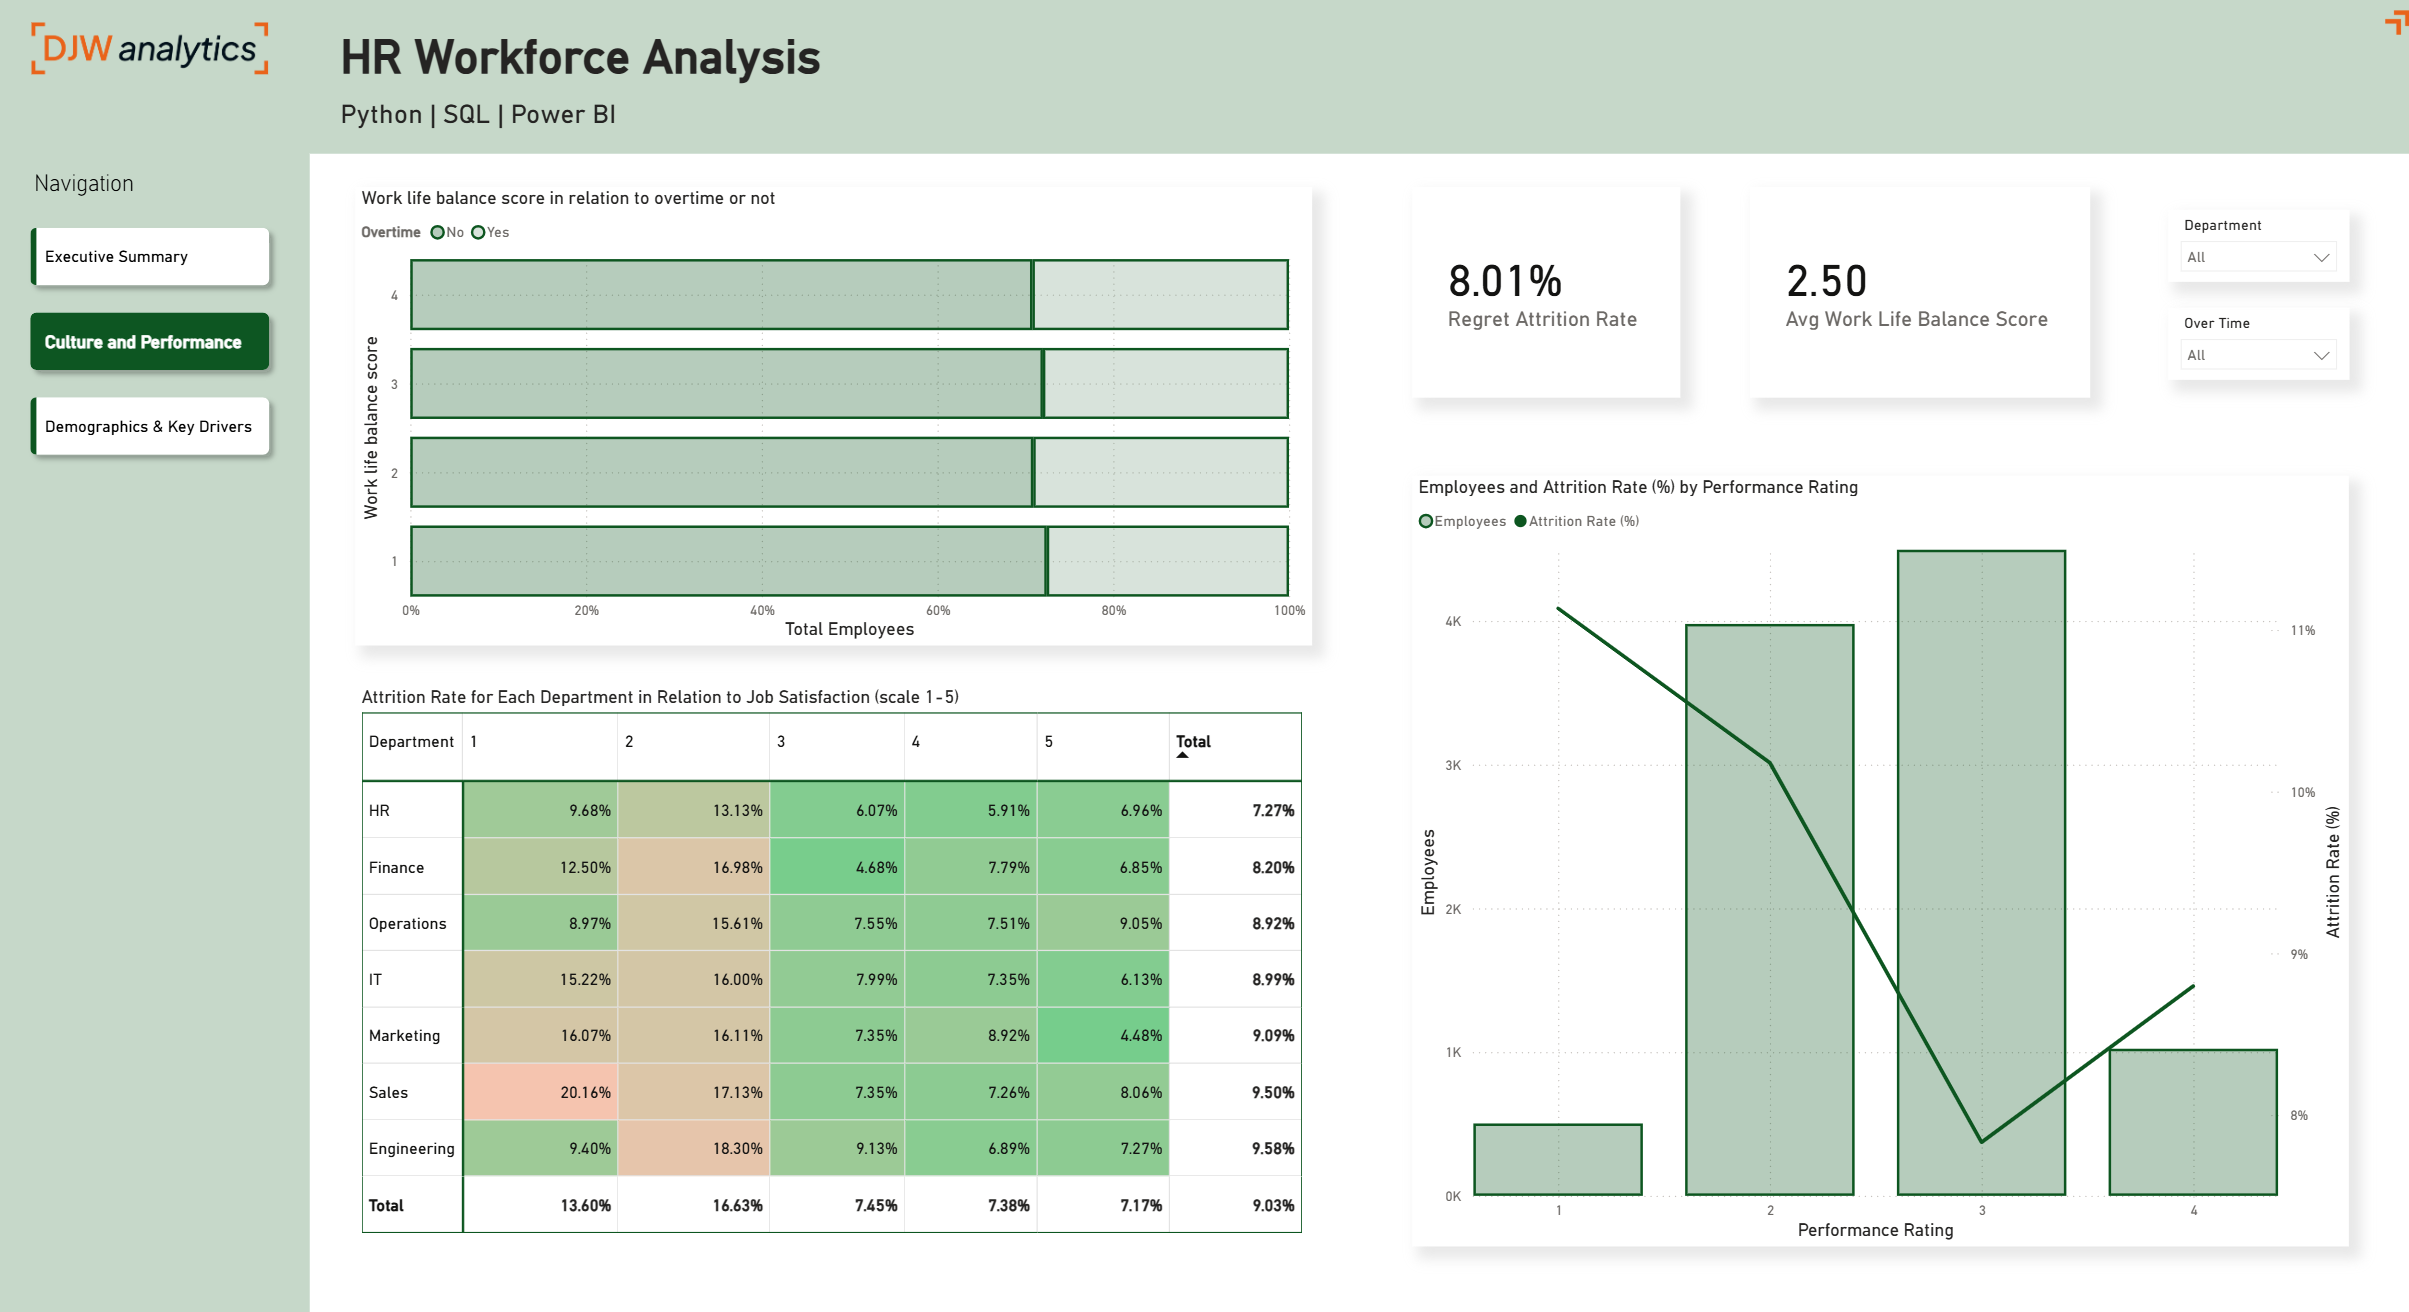

The page's visual inventory and layout, read from the dashboard file:
{"tool":"powerbi","page":{"name":"Culture and Performance","canvas":[1980,1080],"ordinal":1},"visuals":[{"type":"shape","box":[253.3,126.7,1726.7,953.3],"z":0},{"type":"slicer","fields":{"Values":["public dim_hr_flags.over_time"]},"box":[1770,252.2,147.8,58.9],"z":1000},{"type":"slicer","fields":{"Values":["public dim_department.department_name"]},"box":[1770,173.3,147.8,58.9],"z":2000},{"type":"textbox","box":[272.2,20,485.6,57.8],"z":3000},{"type":"textbox","box":[272.2,77.8,243.3,38.9],"z":4000},{"type":"image","box":[22.2,20,198.9,42.2],"z":5000},{"type":"image","box":[1947.8,6.7,20,25.6],"z":6000},{"type":"pageNavigator","box":[15.6,178.9,213.3,203.3],"z":7000},{"type":"textbox","box":[22.2,134.4,131.1,38.9],"z":8000},{"type":"hundredPercentStackedBarChart","title":"Work life balance score in relation to overtime or not","fields":{"Category":["public dim_survey_profile.work_life_balance"],"Series":["public dim_hr_flags.over_time"],"Y":["_key measures.Total Employees"]},"box":[290,154.4,781.1,374.4],"z":9000},{"type":"pivotTable","title":"Attrition Rate for Each Department in Relation to Job Satisfaction (scale 1-5)","fields":{"Columns":["public dim_survey_profile.job_satisfaction"],"Rows":["public dim_department.department_name"],"Values":["_key measures.Attrition Rate"]},"box":[290,561.1,781.1,457.8],"z":10000},{"type":"lineStackedColumnComboChart","fields":{"Category":["public dim_survey_profile.performance_rating"],"Y":["_key measures.Total Employees"],"Y2":["_key measures.Attrition Rate"]},"box":[1153.3,390,764.4,628.9],"z":11000},{"type":"cardVisual","fields":{"Data":["_key measures.Regret Attrition Rate"]},"box":[1153.3,154.4,218.9,172.2],"z":12000},{"type":"cardVisual","fields":{"Data":["Avg(public dim_survey_profile.work_life_balance)"]},"box":[1428.9,154.4,277.8,172.2],"z":13000}]}

Visuals, with their boxes in screenshot pixels (x1, y1, x2, y2), scaled from the page's 1980x1080 canvas onto the 2409x1312 screenshot:
shape: 308/154/2408/1311
slicer - public dim_hr_flags.over_time: 2154/306/2333/378
slicer - public dim_department.department_name: 2154/211/2333/282
textbox: 331/24/922/95
textbox: 331/95/627/142
image: 27/24/269/76
image: 2370/8/2394/39
pageNavigator: 19/217/278/464
textbox: 27/163/187/211
"Work life balance score in relation to overtime or not" hundredPercentStackedBarChart: 353/188/1303/642
"Attrition Rate for Each Department in Relation to Job Satisfaction (scale 1-5)" pivotTable: 353/682/1303/1238
lineStackedColumnComboChart - public dim_survey_profile.performance_rating x _key measures.Total Employees: 1403/474/2333/1238
cardVisual - _key measures.Regret Attrition Rate: 1403/188/1670/397
cardVisual - Avg(public dim_survey_profile.work_life_balance): 1738/188/2076/397
